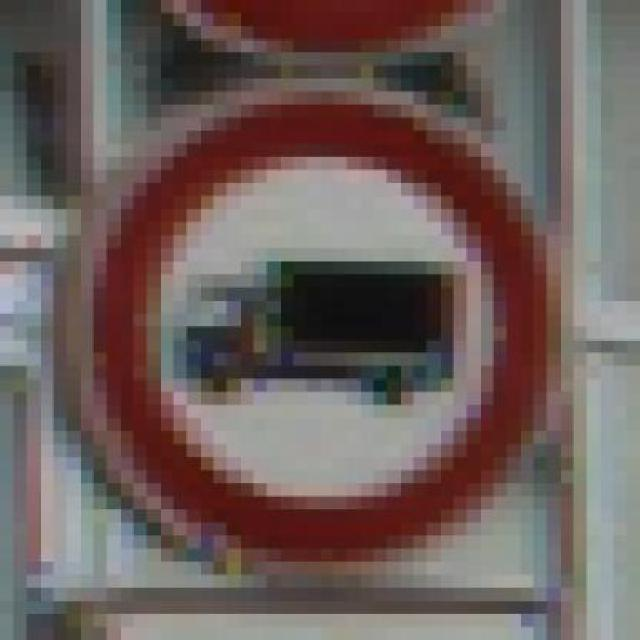Truck traffic is prohibited: (40, 66, 560, 574)
